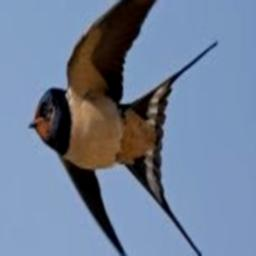Swallow: (29, 0, 217, 256)
